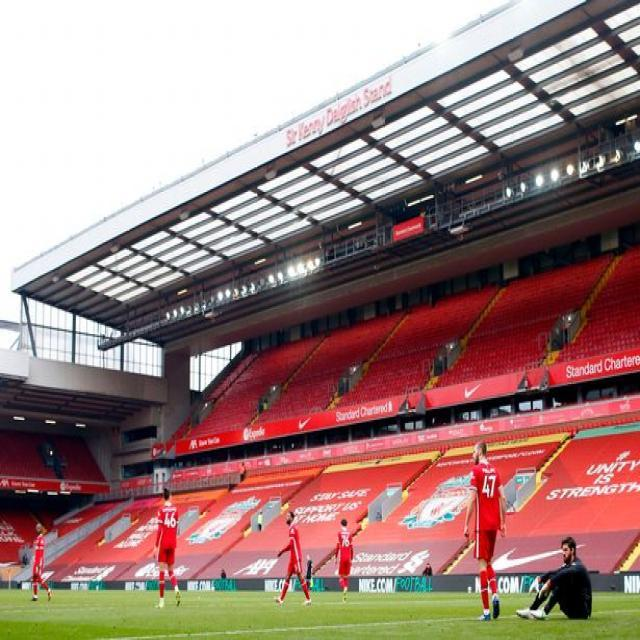Nike: (491, 542, 584, 574), (464, 385, 481, 399), (298, 418, 310, 431)
Standard Chartered: (351, 547, 429, 576), (566, 354, 640, 378), (336, 400, 393, 422)
